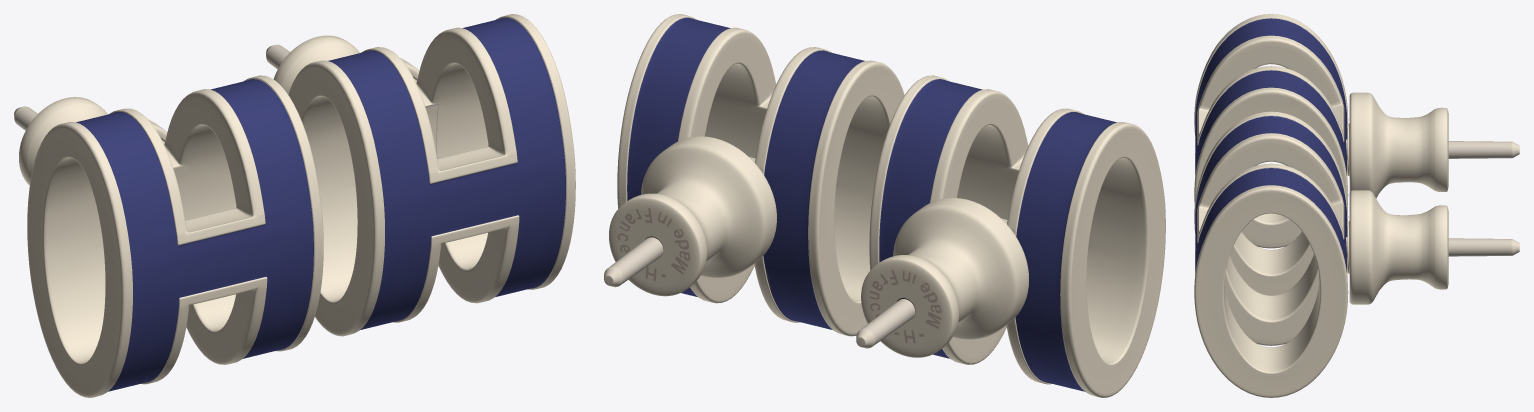
File: earring_B0F47V6BS9_hermes_blueStudWhiteSilver.glb
3 renders of one model, left to right at view 1: azimuth 30°, elevation 25°; view 2: azimuth 150°, elevation 25°; view 3: azimuth 270°, elevation 25°, orthographic. The views are drawn at different scales.
Visible parts, largest first — view 1: Earring_Left_0, Earring_Right_0; view 2: Earring_Left_0, Earring_Right_0; view 3: Earring_Right_0, Earring_Left_0.
Boxes of the visible parts, left/top/right/bottom form: Earring_Left_0: left=14, top=75, right=323, bottom=397; Earring_Right_0: left=266, top=14, right=575, bottom=336; Earring_Left_0: left=856, top=75, right=1165, bottom=397; Earring_Right_0: left=604, top=14, right=904, bottom=336; Earring_Right_0: left=1194, top=111, right=1519, bottom=397; Earring_Left_0: left=1194, top=14, right=1519, bottom=295.
Size of the model in its own units: 0.0358 by 0.02 by 0.0281.
Materials: 1 (1 with a texture image).
